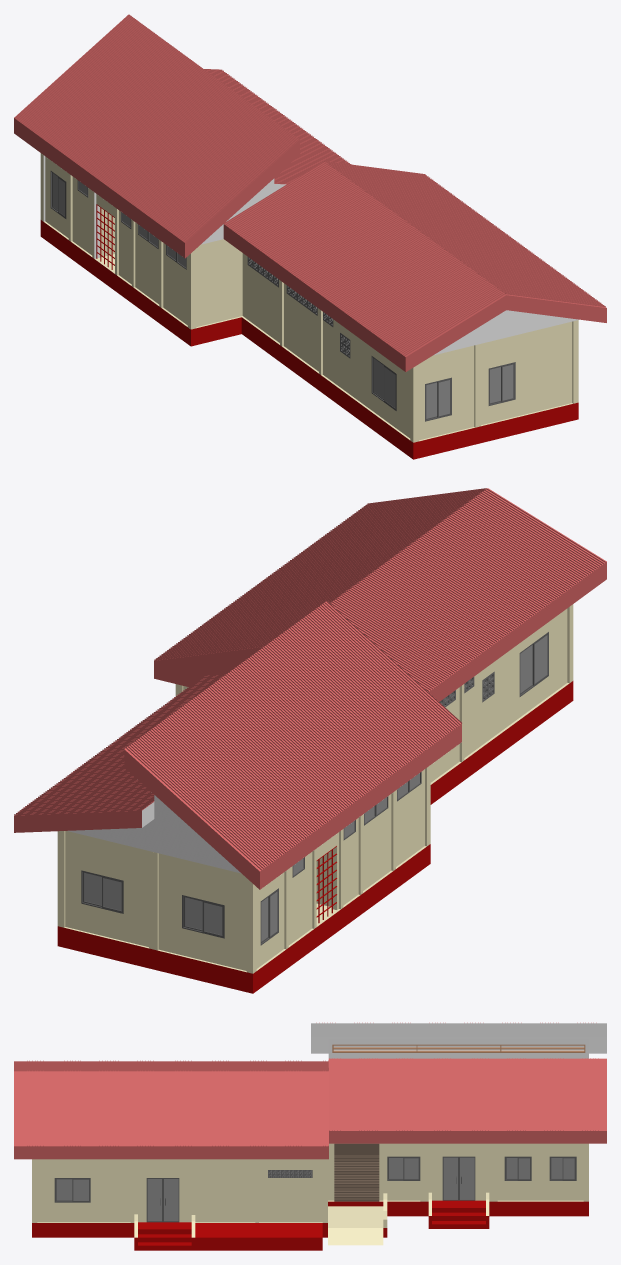
File: supply and procurement office output.glb
The picture shows the model from 3 angles, top to bottom: view 1: azimuth 30°, elevation 25°; view 2: azimuth 150°, elevation 25°; view 3: azimuth 270°, elevation 25°; orthographic projection. The views are drawn at different scales.
Parts seen in each view (by area): view 1: 3DGeom-1, 3DGeom-213, 3DGeom-218, 3DGeom-216, 3DGeom-215, 3DGeom-3, 3DGeom-211, 3DGeom-217, 3DGeom-210, 3DGeom-28 (×2), 3DGeom-21, 3DGeom-192 (+1 smaller); view 2: 3DGeom-213, 3DGeom-1, 3DGeom-218, 3DGeom-216, 3DGeom-215, 3DGeom-3, 3DGeom-217, 3DGeom-211, 3DGeom-212, 3DGeom-18 (×2), 3DGeom-21, 3DGeom-192; view 3: 3DGeom-1, 3DGeom-215, 3DGeom-217, 3DGeom-3, 3DGeom-212, 3DGeom-211, 3DGeom-213, 3DGeom-216, 3DGeom-191, 3DGeom-214, 3DGeom-38 (×2), 3DGeom-52 (+7 smaller).
Part boxes in pixels (x1,y1,x2,y2): 3DGeom-1: [40, 153, 578, 442]; 3DGeom-213: [14, 23, 299, 258]; 3DGeom-218: [15, 14, 299, 242]; 3DGeom-216: [224, 161, 505, 356]; 3DGeom-215: [324, 161, 606, 307]; 3DGeom-3: [40, 220, 578, 459]; 3DGeom-211: [223, 224, 606, 371]; 3DGeom-217: [204, 69, 351, 184]; 3DGeom-210: [433, 310, 578, 355]; 3DGeom-28 (×2): [426, 364, 513, 418]; 3DGeom-21: [374, 358, 395, 408]; 3DGeom-192: [96, 204, 114, 269]; 3DGeom-213: [14, 612, 461, 889]; 3DGeom-1: [57, 604, 573, 973]; 3DGeom-218: [124, 600, 461, 870]; 3DGeom-216: [330, 488, 606, 691]; 3DGeom-215: [154, 488, 486, 660]; 3DGeom-3: [57, 681, 573, 993]; 3DGeom-217: [14, 675, 224, 815]; 3DGeom-211: [154, 562, 606, 701]; 3DGeom-212: [68, 795, 241, 873]; 3DGeom-18 (×2): [84, 873, 222, 935]; 3DGeom-21: [520, 635, 547, 692]; 3DGeom-192: [316, 846, 336, 923]; 3DGeom-1: [32, 1143, 588, 1245]; 3DGeom-215: [14, 1071, 328, 1146]; 3DGeom-217: [329, 1058, 606, 1130]; 3DGeom-3: [32, 1200, 588, 1250]; 3DGeom-212: [311, 1023, 606, 1058]; 3DGeom-211: [14, 1146, 328, 1159]; 3DGeom-213: [328, 1059, 606, 1143]; 3DGeom-216: [14, 1060, 328, 1071]; 3DGeom-191: [334, 1155, 379, 1201]; 3DGeom-214: [332, 1044, 585, 1052]; 3DGeom-38 (×2): [506, 1158, 574, 1179]; 3DGeom-52: [56, 1179, 88, 1200].
Size of the model in its own units: 14.67 by 10.18 by 33.06.
22 materials, 5 textured.
